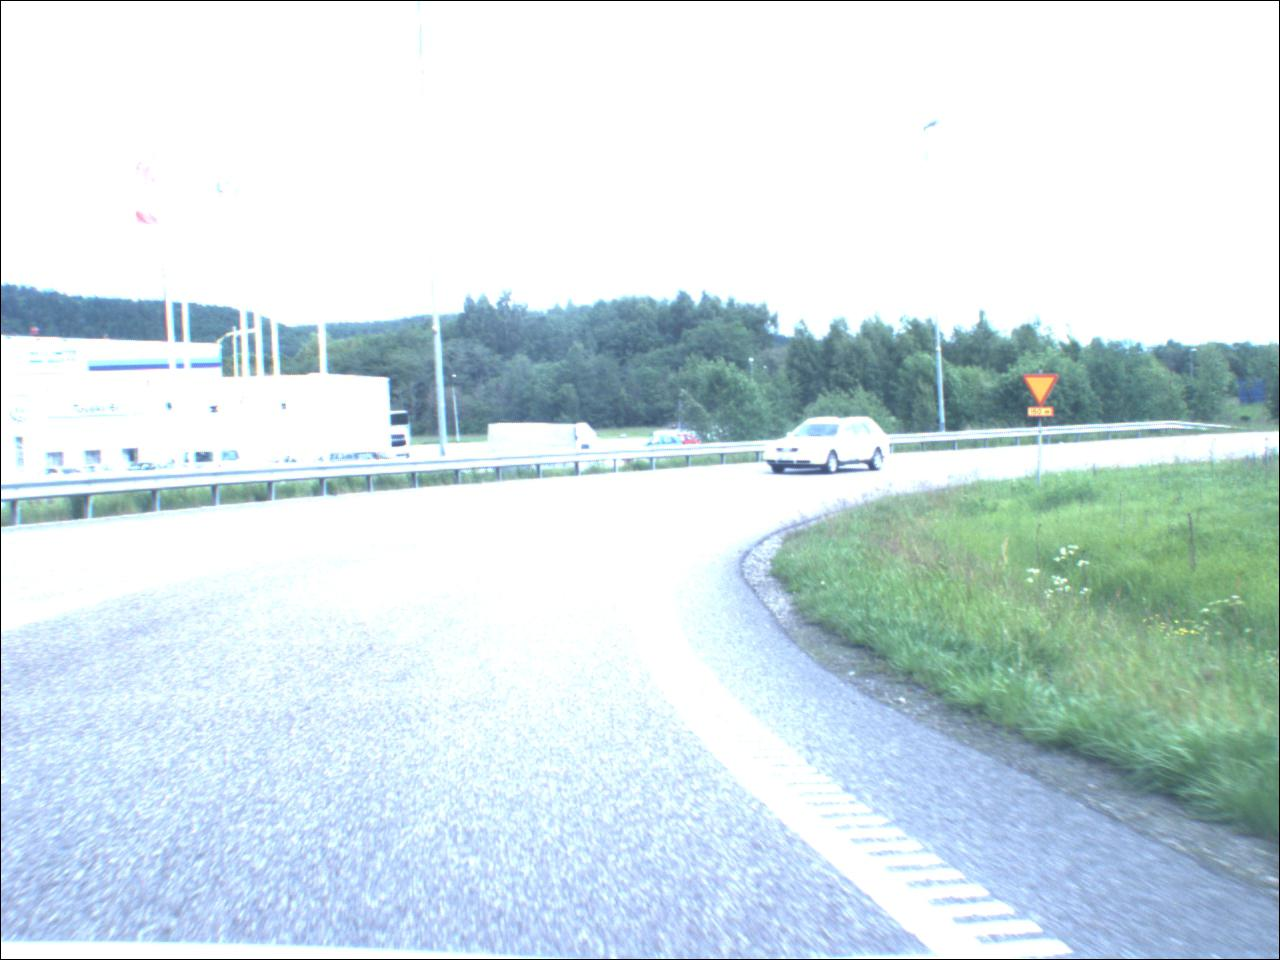GIVE_WAY: (1025, 375, 1060, 407)
